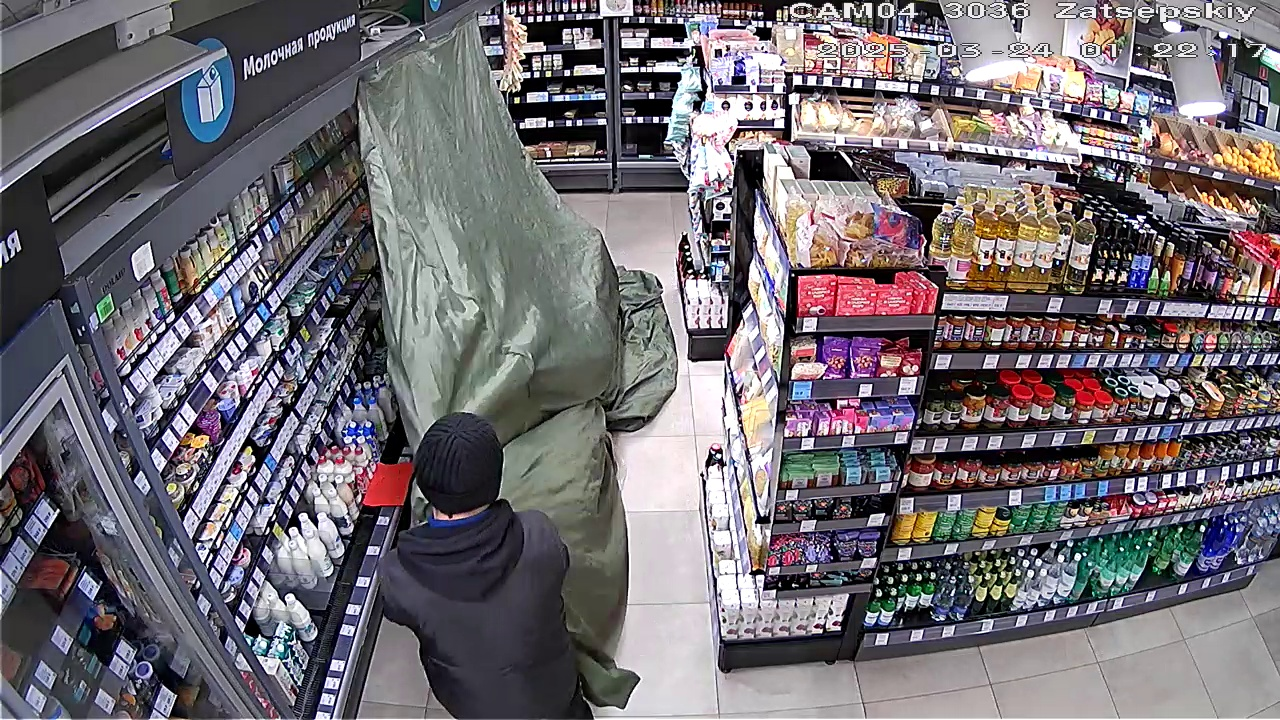Human: (374, 410, 588, 717)
dome: (350, 39, 676, 702)
